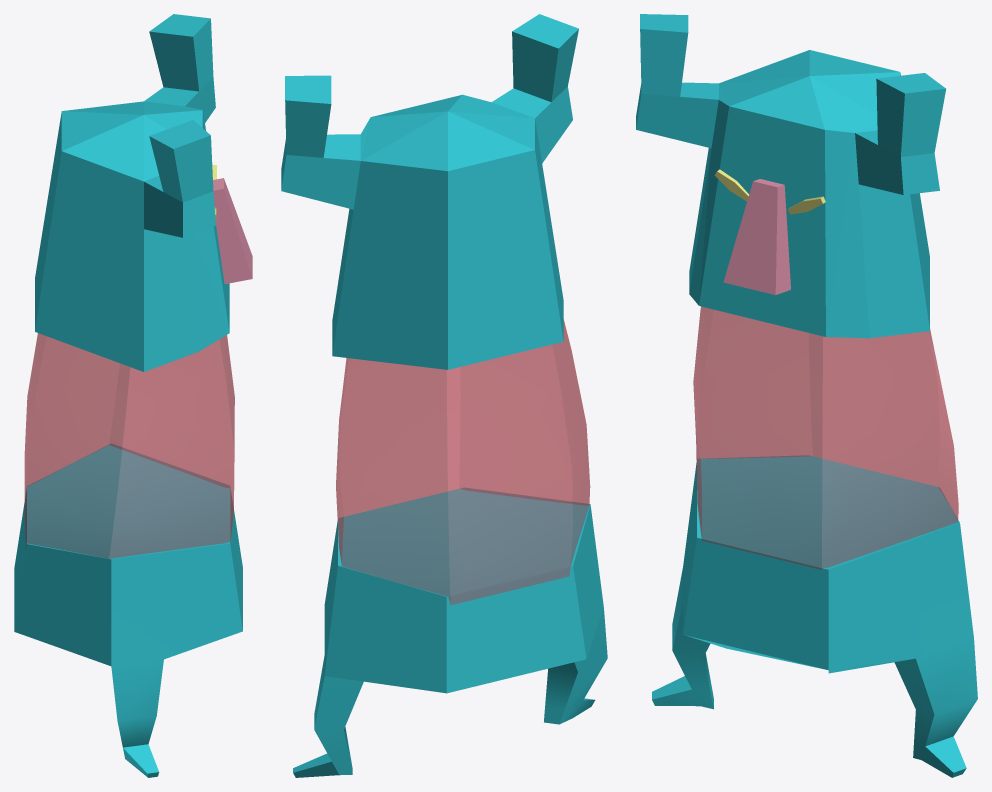
Rendered from TotemEnemyBasic.fbx.
3 renders of one model, left to right at view 1: azimuth 30°, elevation 25°; view 2: azimuth 150°, elevation 25°; view 3: azimuth 270°, elevation 25°, orthographic. The views are drawn at different scales.
Visible parts, largest first — view 1: Totem_Head, Totem_LowerHalf, Totem_WeakSpot, Totem_Nose; view 2: Totem_Head, Totem_WeakSpot, Totem_LowerHalf; view 3: Totem_LowerHalf, Totem_Head, Totem_WeakSpot, Totem_Nose.
Part boxes in pixels (x1,y1,x2,y2): Totem_Head: [35, 14, 229, 371]; Totem_LowerHalf: [14, 443, 242, 777]; Totem_WeakSpot: [24, 333, 234, 558]; Totem_Nose: [213, 178, 252, 283]; Totem_Head: [281, 14, 578, 369]; Totem_WeakSpot: [336, 319, 590, 604]; Totem_LowerHalf: [293, 487, 607, 777]; Totem_LowerHalf: [652, 455, 977, 777]; Totem_Head: [636, 14, 945, 338]; Totem_WeakSpot: [693, 306, 958, 569]; Totem_Nose: [723, 179, 790, 295].
Size of the model in its own units: 2.25 by 5.57 by 2.46.
